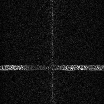wifi: (1, 64, 104, 70)
